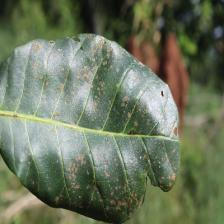red rust: (0, 35, 179, 223)
